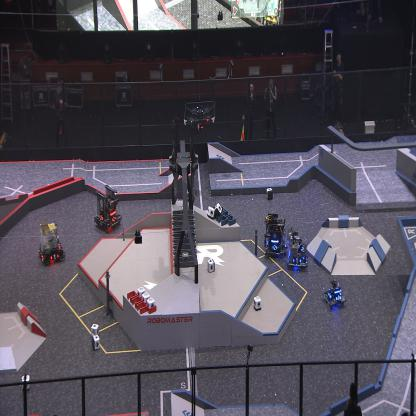car: (94, 183, 122, 233), (263, 212, 288, 259), (38, 223, 65, 264), (286, 227, 308, 270), (322, 278, 346, 308)
